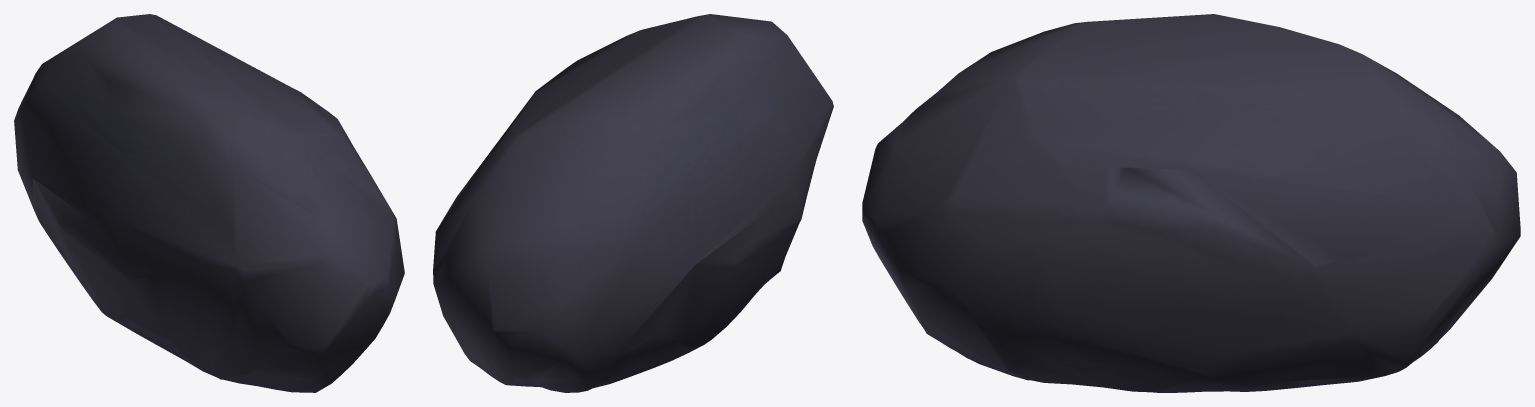
File: Portable_Ore.fbx
3 renders of one model, left to right at view 1: azimuth 30°, elevation 25°; view 2: azimuth 150°, elevation 25°; view 3: azimuth 270°, elevation 25°, orthographic. The views are drawn at different scales.
Parts seen in each view (by area): view 1: tripo_node_13fadae0; view 2: tripo_node_13fadae0; view 3: tripo_node_13fadae0.
Part boxes in pixels (bbox=[...]): tripo_node_13fadae0: bbox=[14, 14, 404, 392]; tripo_node_13fadae0: bbox=[433, 14, 833, 392]; tripo_node_13fadae0: bbox=[862, 14, 1520, 392].
Size of the model in its own units: 49.32 by 50.98 by 99.8.
